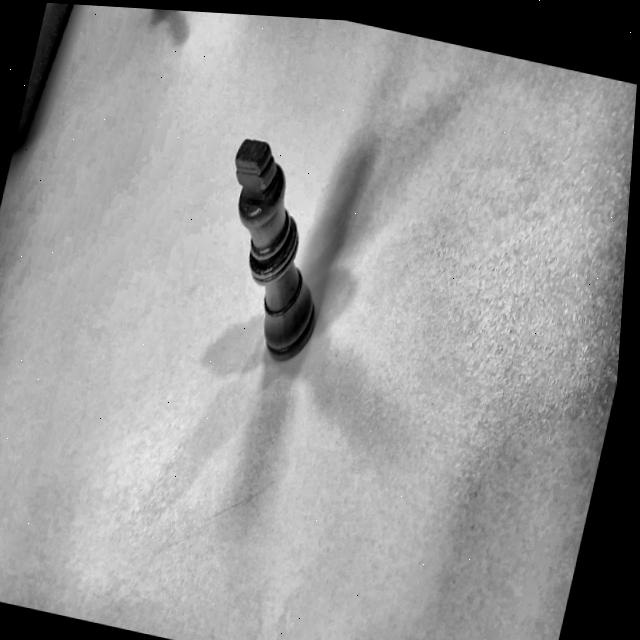black-king: (183, 126, 367, 390)
